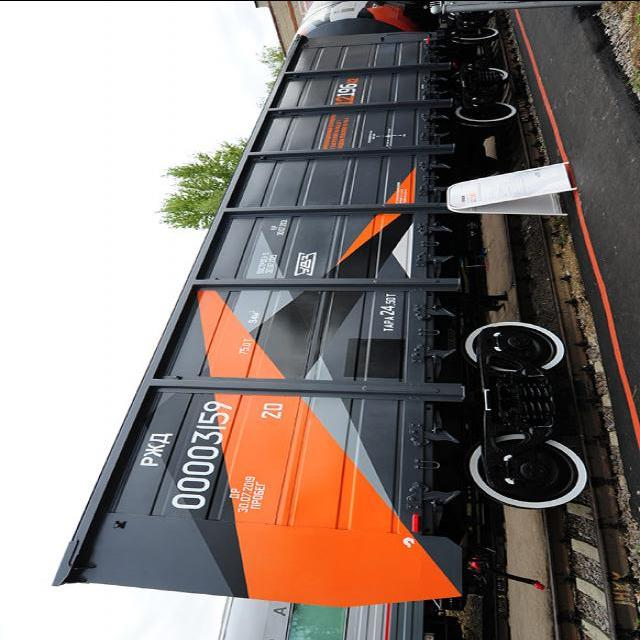wagon: (166, 398, 238, 509)
